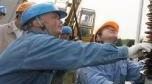gloves: (127, 42, 152, 58), (1, 1, 1, 1)
hard-hat: (20, 2, 66, 27)
